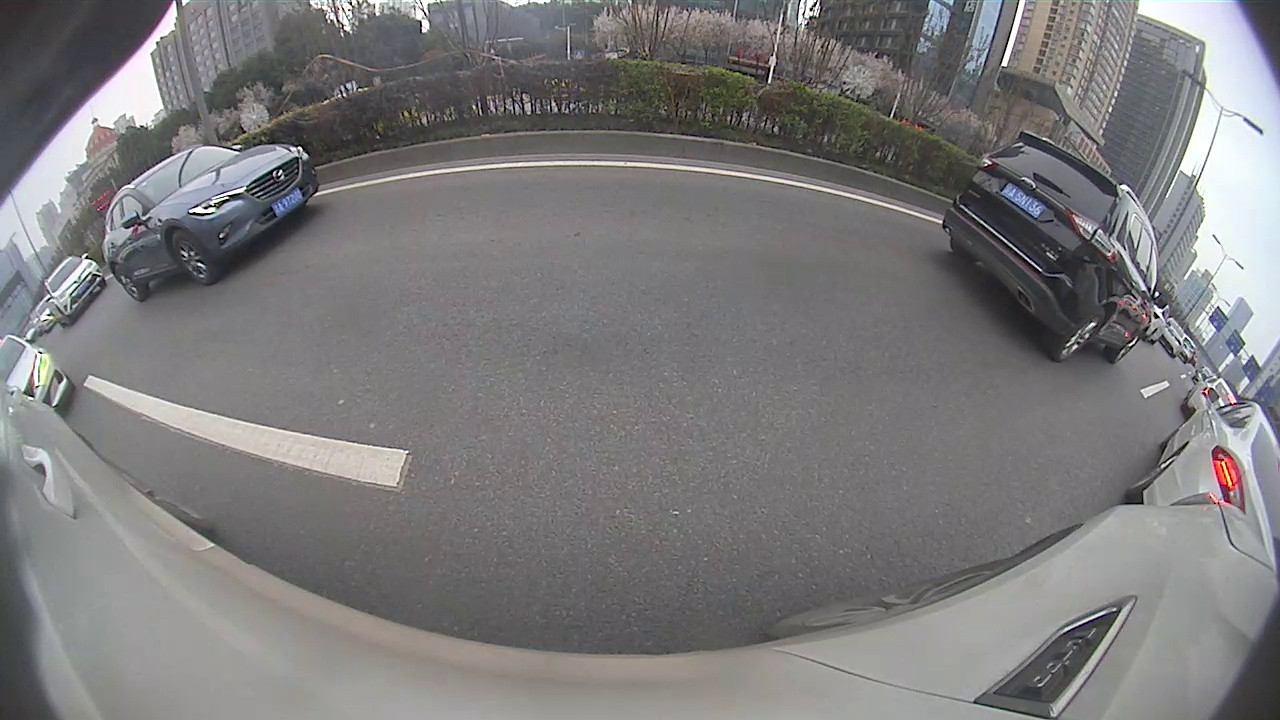car: (1080, 255, 1278, 428), (378, 165, 483, 229), (609, 145, 649, 184), (548, 165, 567, 179)
front: (1105, 290, 1152, 351), (471, 184, 483, 208)
rear: (437, 193, 454, 216)
